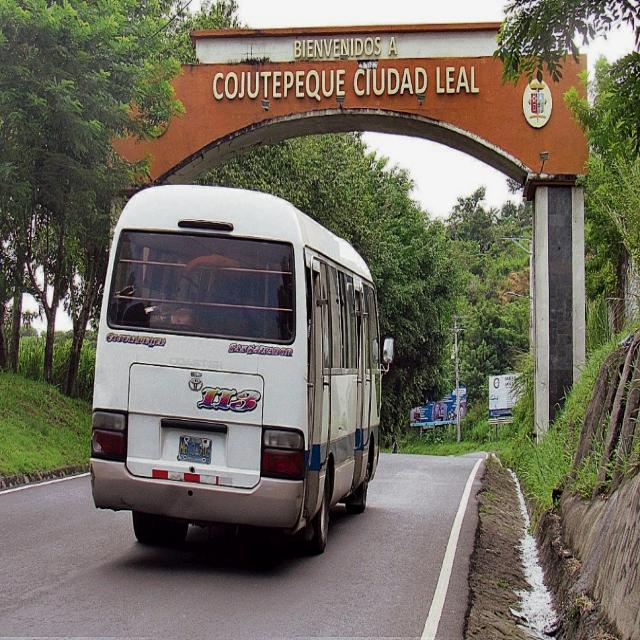BUS: (95, 176, 393, 568)
